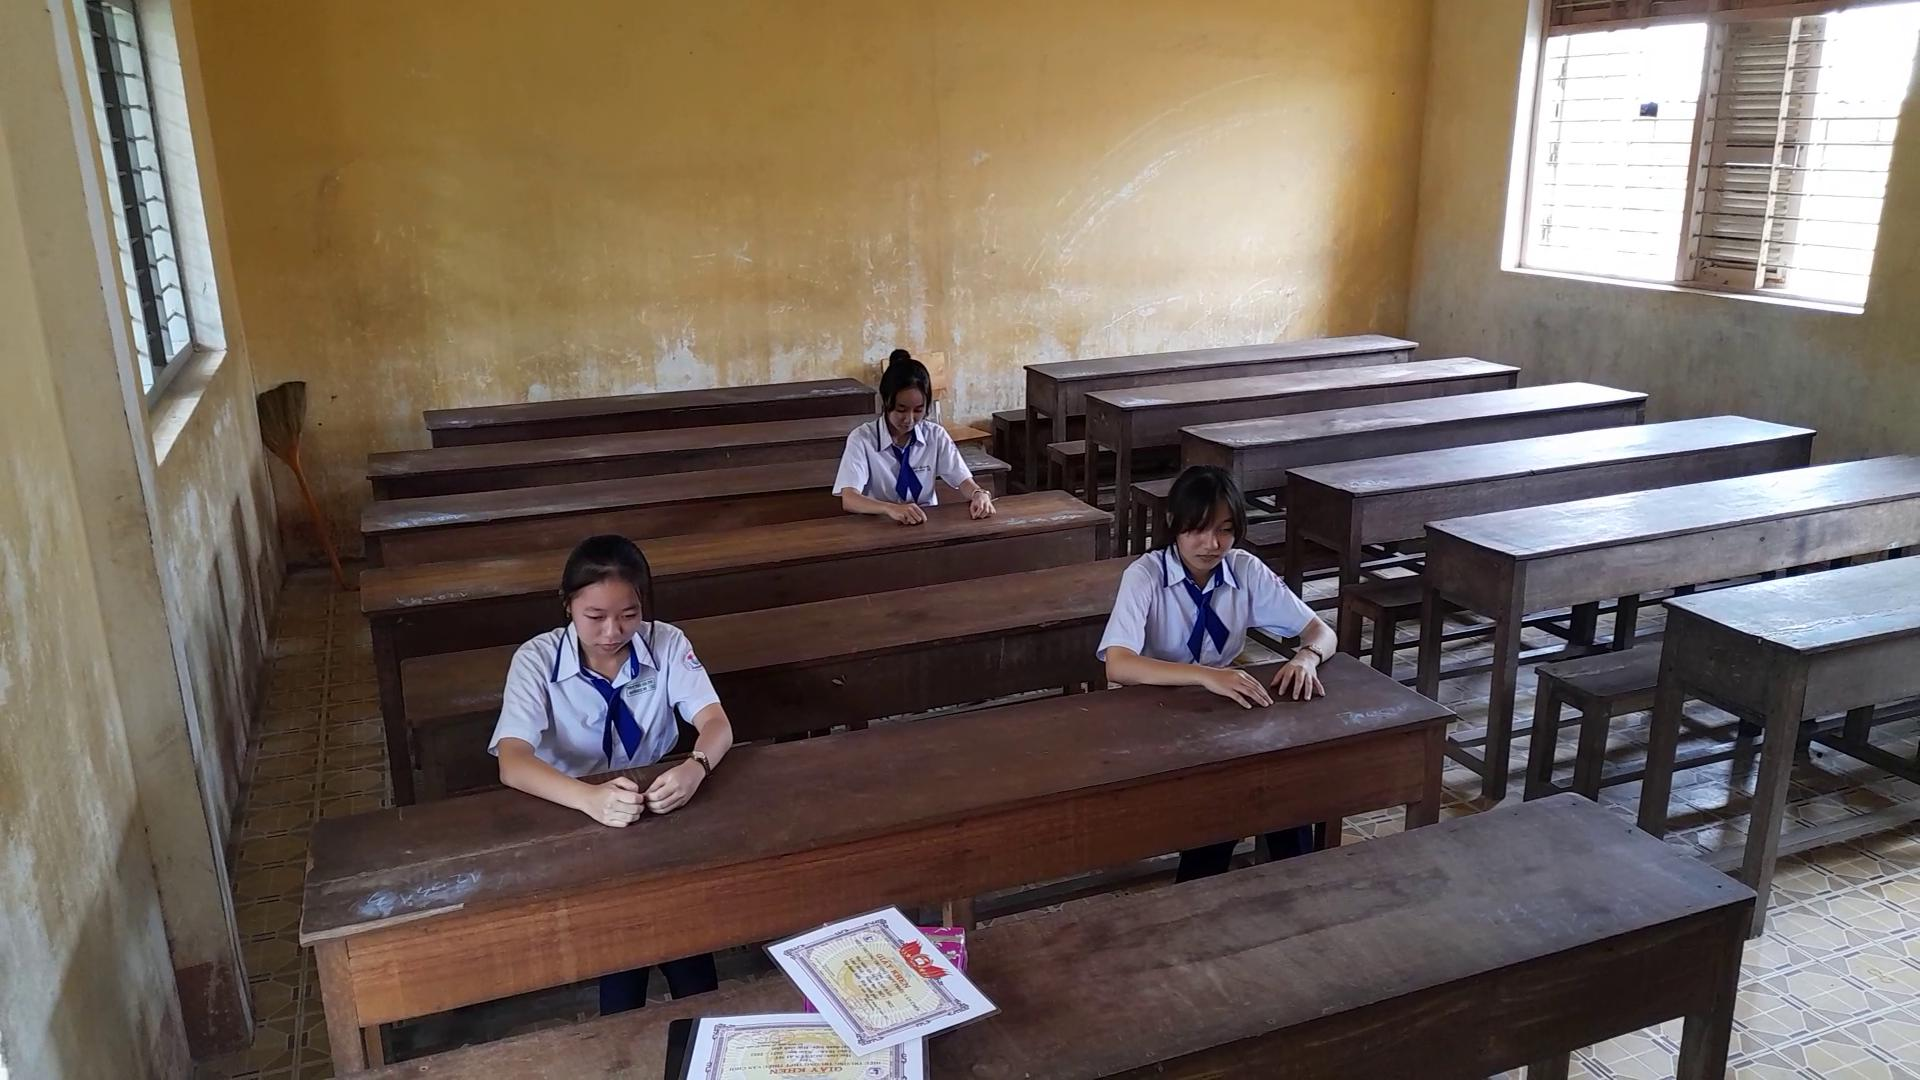Bend Over The Desk: (845, 331, 955, 447)
Normal: (465, 517, 744, 835), (1087, 433, 1346, 711)
